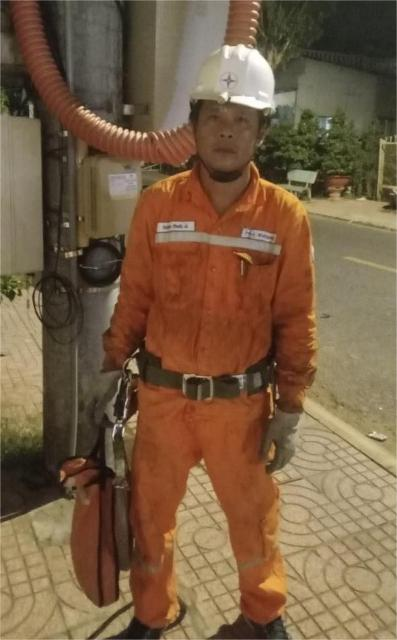gloves: (77, 358, 135, 430), (249, 400, 306, 468)
harness: (112, 341, 287, 415)
helmet: (176, 28, 289, 117)
shoes: (223, 591, 297, 640), (105, 605, 170, 640)
